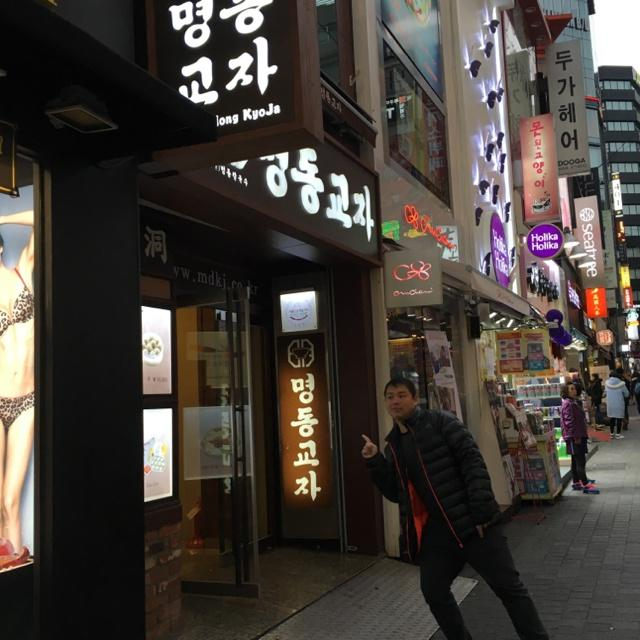body: (356, 372, 563, 639), (0, 208, 34, 570), (556, 379, 602, 495), (600, 368, 631, 441), (428, 340, 453, 408), (615, 366, 632, 432), (586, 371, 603, 427), (567, 365, 586, 403), (627, 369, 639, 408), (530, 198, 553, 215), (631, 371, 639, 416), (630, 356, 640, 388)
